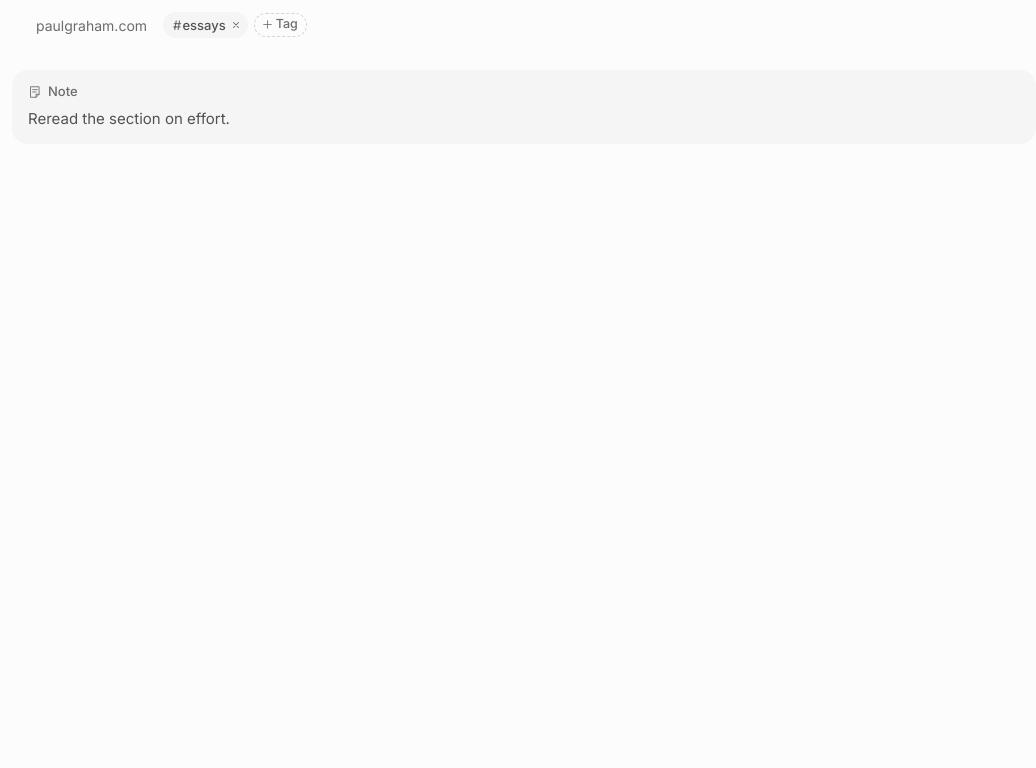
Reader meta › rolls back the optimistic note and shows an error toast
The width and height of the screenshot is (1036, 768).
Click the button with aria-label "Edit note" at (129, 118), box [28,106,1020,132]
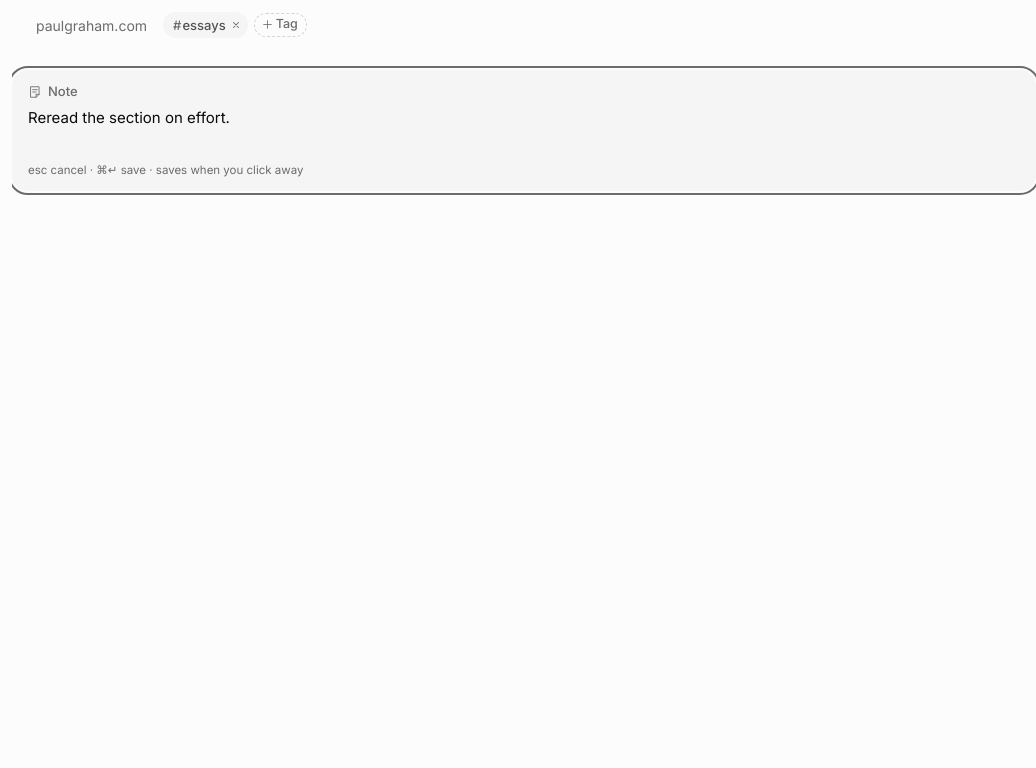
Replace the text in the text box named "note" with "Unsaved note" at (524, 131), box [28,104,1020,158]
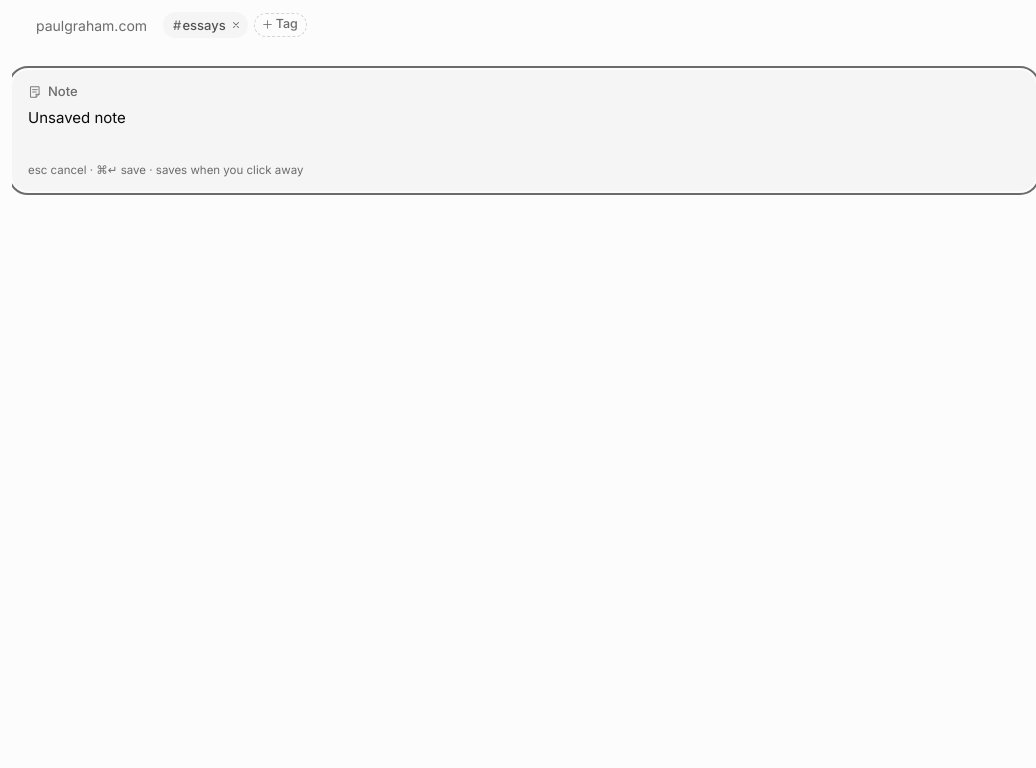
Leave the text box named "note", box [28,104,1020,158]
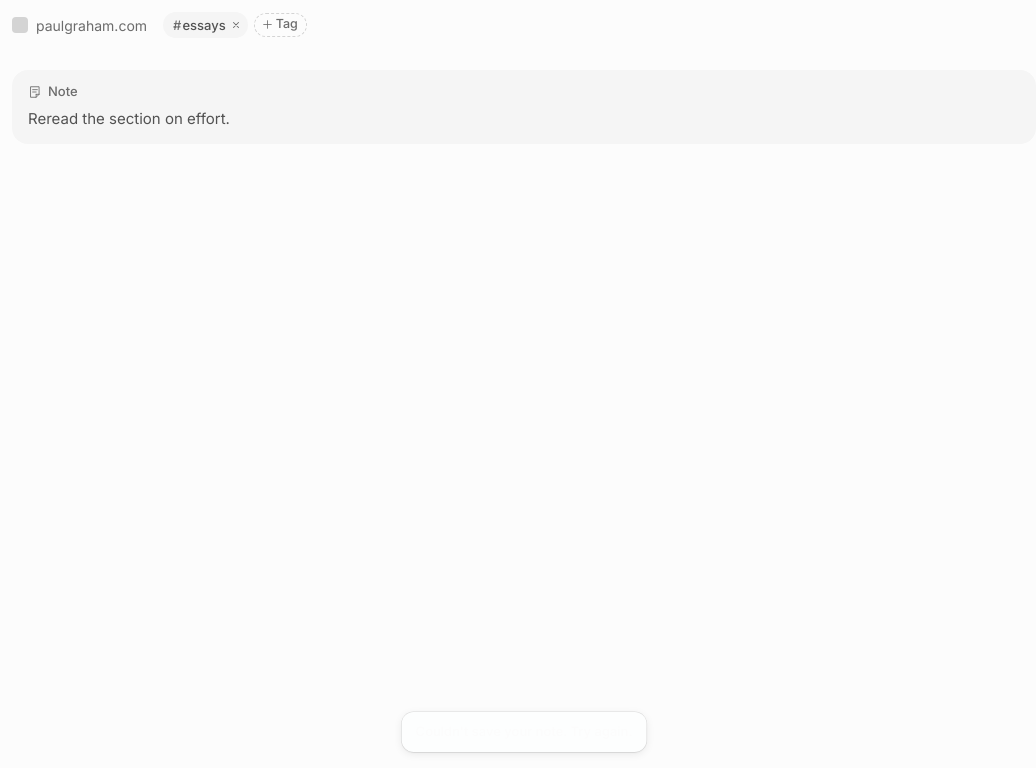
Check: the button "Reread the section on effort." is shown, box [28,106,1020,132]
